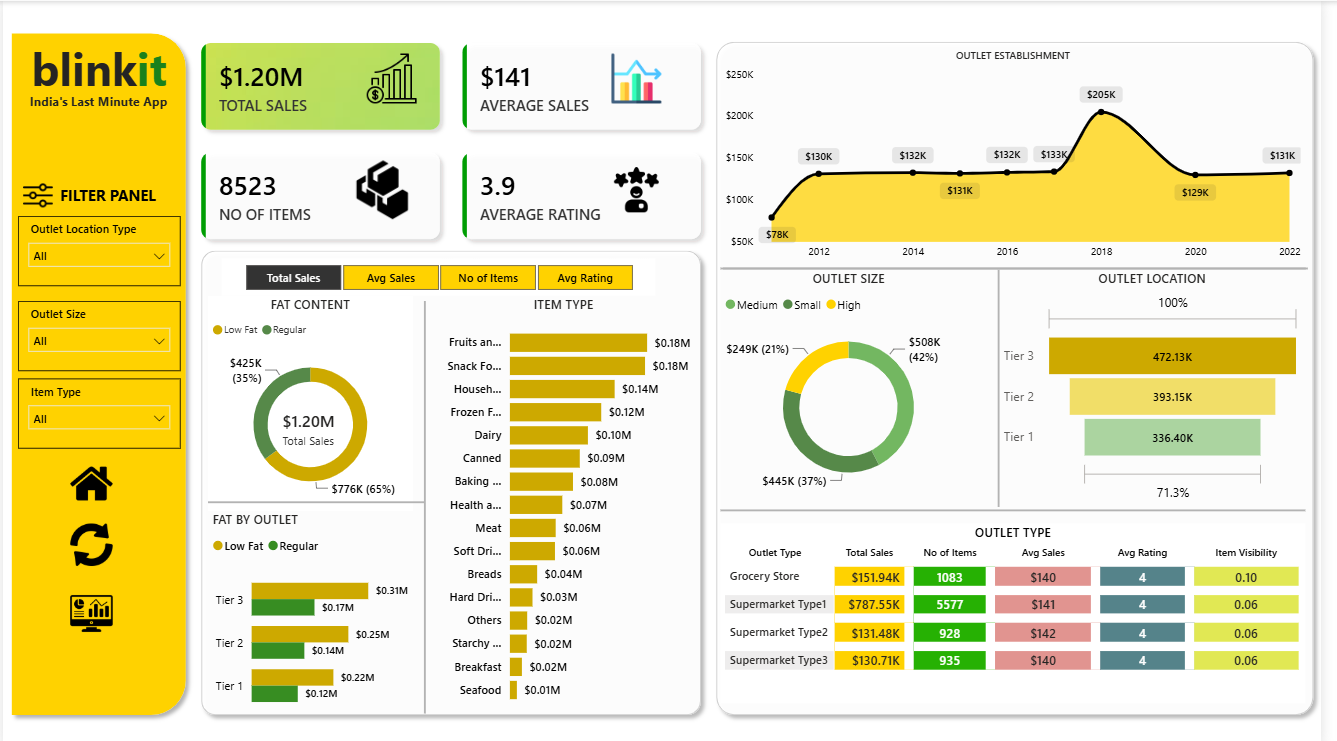

Layout of this report page (visuals, bound fields, positions):
{"tool":"powerbi","page":{"name":"DASHBOARD","canvas":[1414,800],"ordinal":0},"visuals":[{"type":"shape","box":[0,25.5,205.1,749.3],"z":0},{"type":"textbox","box":[9.4,34.9,187.7,75.1],"z":1000},{"type":"textbox","box":[21.4,93.8,162.2,32.2],"z":2000},{"type":"cardVisual","fields":{"Data":["BlinkIT Grocery Data.Total Sales","BlinkIT Grocery Data.Avg Sales","BlinkIT Grocery Data.No of Items","BlinkIT Grocery Data.Avg Rating"]},"box":[183.6,16.1,595.2,269.4],"z":3000},{"type":"image","box":[374,56.3,85.8,53.6],"z":4000},{"type":"image","box":[638.1,56.3,81.8,53.6],"z":5000},{"type":"image","box":[353.9,168.9,105.9,67],"z":6000},{"type":"image","box":[638.1,175.6,83.1,53.6],"z":7000},{"type":"shape","box":[203.8,258.7,553.6,516.1],"z":8000},{"type":"donutChart","title":"FAT CONTENT","fields":{"Y":["BlinkIT Grocery Data.Total Sales"],"Category":["BlinkIT Grocery Data.Item Fat Content"]},"box":[219.8,316.4,219.8,230.6],"z":9000},{"type":"slicer","fields":{"Values":["Metrics.Metrics"]},"box":[234.6,276.1,465.1,40.2],"z":10000},{"type":"cardVisual","fields":{"Data":["BlinkIT Grocery Data.Total Sales"]},"box":[270.8,418.2,116.6,81.8],"z":11000},{"type":"clusteredBarChart","title":"FAT BY OUTLET","fields":{"Y":["BlinkIT Grocery Data.Total Sales"],"Category":["BlinkIT Grocery Data.Outlet Location Type"],"Series":["BlinkIT Grocery Data.Item Fat Content"]},"box":[219.8,546.9,219.8,230.6],"z":12000},{"type":"shape","box":[219.8,528.2,231.9,18.8],"z":13000},{"type":"shape","box":[437,321.7,30.8,442.4],"z":14000},{"type":"barChart","title":"ITEM TYPE","fields":{"Y":["BlinkIT Grocery Data.Total Sales"],"Category":["BlinkIT Grocery Data.Item Type"]},"box":[459.8,316.4,282.8,447.7],"z":15000},{"type":"shape","box":[756,34.9,658.2,740],"z":16000},{"type":"lineChart","title":"OUTLET ESTABLISHMENT","fields":{"Y":["BlinkIT Grocery Data.Total Sales"],"Category":["BlinkIT Grocery Data.Outlet Establishment Year"]},"box":[769.4,50.9,627.3,234.6],"z":16001},{"type":"shape","box":[769.4,277.5,627.3,18.8],"z":16002},{"type":"donutChart","title":"OUTLET SIZE","fields":{"Y":["BlinkIT Grocery Data.Total Sales"],"Category":["BlinkIT Grocery Data.Outlet Size"]},"box":[769.4,288.2,274.8,249.3],"z":16003},{"type":"shape","box":[1052.3,288.2,30.8,254.7],"z":16004},{"type":"funnel","title":"OUTLET LOCATION","fields":{"Y":["Sum(BlinkIT Grocery Data.Sales)"],"Category":["BlinkIT Grocery Data.Outlet Location Type"]},"box":[1068.4,288.2,328.4,254.7],"z":16005},{"type":"shape","box":[769.4,532.2,627.3,28.2],"z":16006},{"type":"pivotTable","title":"OUTLET TYPE","fields":{"Rows":["BlinkIT Grocery Data.Outlet Type"],"Values":["BlinkIT Grocery Data.Total Sales","BlinkIT Grocery Data.No of Items","BlinkIT Grocery Data.Avg Sales","BlinkIT Grocery Data.Avg Rating","Avg(BlinkIT Grocery Data.Item Visibility)"]},"box":[769.4,560.3,627.3,193],"z":16007},{"type":"slicer","fields":{"Values":["BlinkIT Grocery Data.Outlet Location Type"]},"box":[16.1,230.6,174.3,75.1],"z":16008},{"type":"shape","box":[772.1,277.5,627.3,18.8],"z":16009},{"type":"slicer","fields":{"Values":["BlinkIT Grocery Data.Outlet Size"]},"box":[16.1,321.7,174.3,75.1],"z":16010},{"type":"slicer","fields":{"Values":["BlinkIT Grocery Data.Item Type"]},"box":[16.1,404.8,174.3,75.1],"z":16011},{"type":"textbox","box":[56.3,191.7,140.8,38.9],"z":16012},{"type":"image","box":[21.4,187.7,32.2,41.6],"z":16013},{"type":"image","box":[61.7,494.6,65.7,45.6],"z":16014},{"type":"image","box":[61.7,560.3,65.7,45.6],"z":16015},{"type":"image","box":[61.7,634.1,65.7,45.6],"z":16016}]}

Visuals, with their boxes in screenshot pixels (x1, y1, x2, y2), scaled from the page's 1414x800 canvas onto the 1337x741 screenshot:
shape: left=0, top=24, right=194, bottom=718
textbox: left=9, top=32, right=186, bottom=102
textbox: left=20, top=87, right=174, bottom=117
cardVisual - BlinkIT Grocery Data.Total Sales x BlinkIT Grocery Data.Avg Sales: left=174, top=15, right=736, bottom=264
image: left=354, top=52, right=435, bottom=102
image: left=603, top=52, right=681, bottom=102
image: left=335, top=156, right=435, bottom=219
image: left=603, top=163, right=682, bottom=212
shape: left=193, top=240, right=716, bottom=718
"FAT CONTENT" donutChart: left=208, top=293, right=416, bottom=507
slicer - Metrics.Metrics: left=222, top=256, right=662, bottom=293
cardVisual - BlinkIT Grocery Data.Total Sales: left=256, top=387, right=366, bottom=463
"FAT BY OUTLET" clusteredBarChart: left=208, top=507, right=416, bottom=720
shape: left=208, top=489, right=427, bottom=507
shape: left=413, top=298, right=442, bottom=708
"ITEM TYPE" barChart: left=435, top=293, right=702, bottom=708
shape: left=715, top=32, right=1336, bottom=718
"OUTLET ESTABLISHMENT" lineChart: left=728, top=47, right=1321, bottom=264
shape: left=728, top=257, right=1321, bottom=274
"OUTLET SIZE" donutChart: left=728, top=267, right=987, bottom=498
shape: left=995, top=267, right=1024, bottom=503
"OUTLET LOCATION" funnel: left=1010, top=267, right=1321, bottom=503
shape: left=728, top=493, right=1321, bottom=519
"OUTLET TYPE" pivotTable: left=728, top=519, right=1321, bottom=698
slicer - BlinkIT Grocery Data.Outlet Location Type: left=15, top=214, right=180, bottom=283
shape: left=730, top=257, right=1323, bottom=274
slicer - BlinkIT Grocery Data.Outlet Size: left=15, top=298, right=180, bottom=368
slicer - BlinkIT Grocery Data.Item Type: left=15, top=375, right=180, bottom=445
textbox: left=53, top=178, right=186, bottom=214
image: left=20, top=174, right=51, bottom=212
image: left=58, top=458, right=120, bottom=500
image: left=58, top=519, right=120, bottom=561
image: left=58, top=587, right=120, bottom=630
